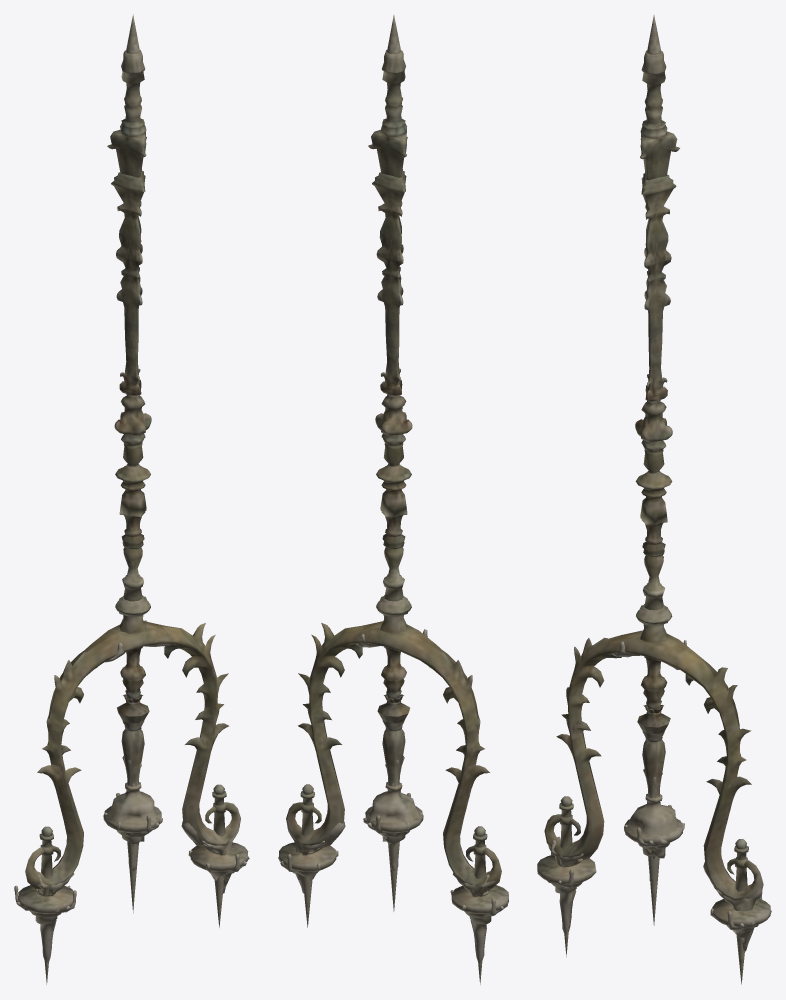
File: weapon-wp_a_0934.glb
3 views of the same model, side by side, from view 1: azimuth 30°, elevation 25°; view 2: azimuth 150°, elevation 25°; view 3: azimuth 330°, elevation 25° (orthographic).
Visible parts, largest first — view 1: wp_a_0934_mesh; view 2: wp_a_0934_mesh; view 3: wp_a_0934_mesh.
Boxes of the visible parts, left/top/right/bottom form: wp_a_0934_mesh: left=14, top=14, right=249, bottom=984; wp_a_0934_mesh: left=278, top=15, right=508, bottom=984; wp_a_0934_mesh: left=537, top=15, right=771, bottom=984.
Size of the model in its own units: 0.5555 by 2.24 by 0.1385.
1 material, 1 textured.
